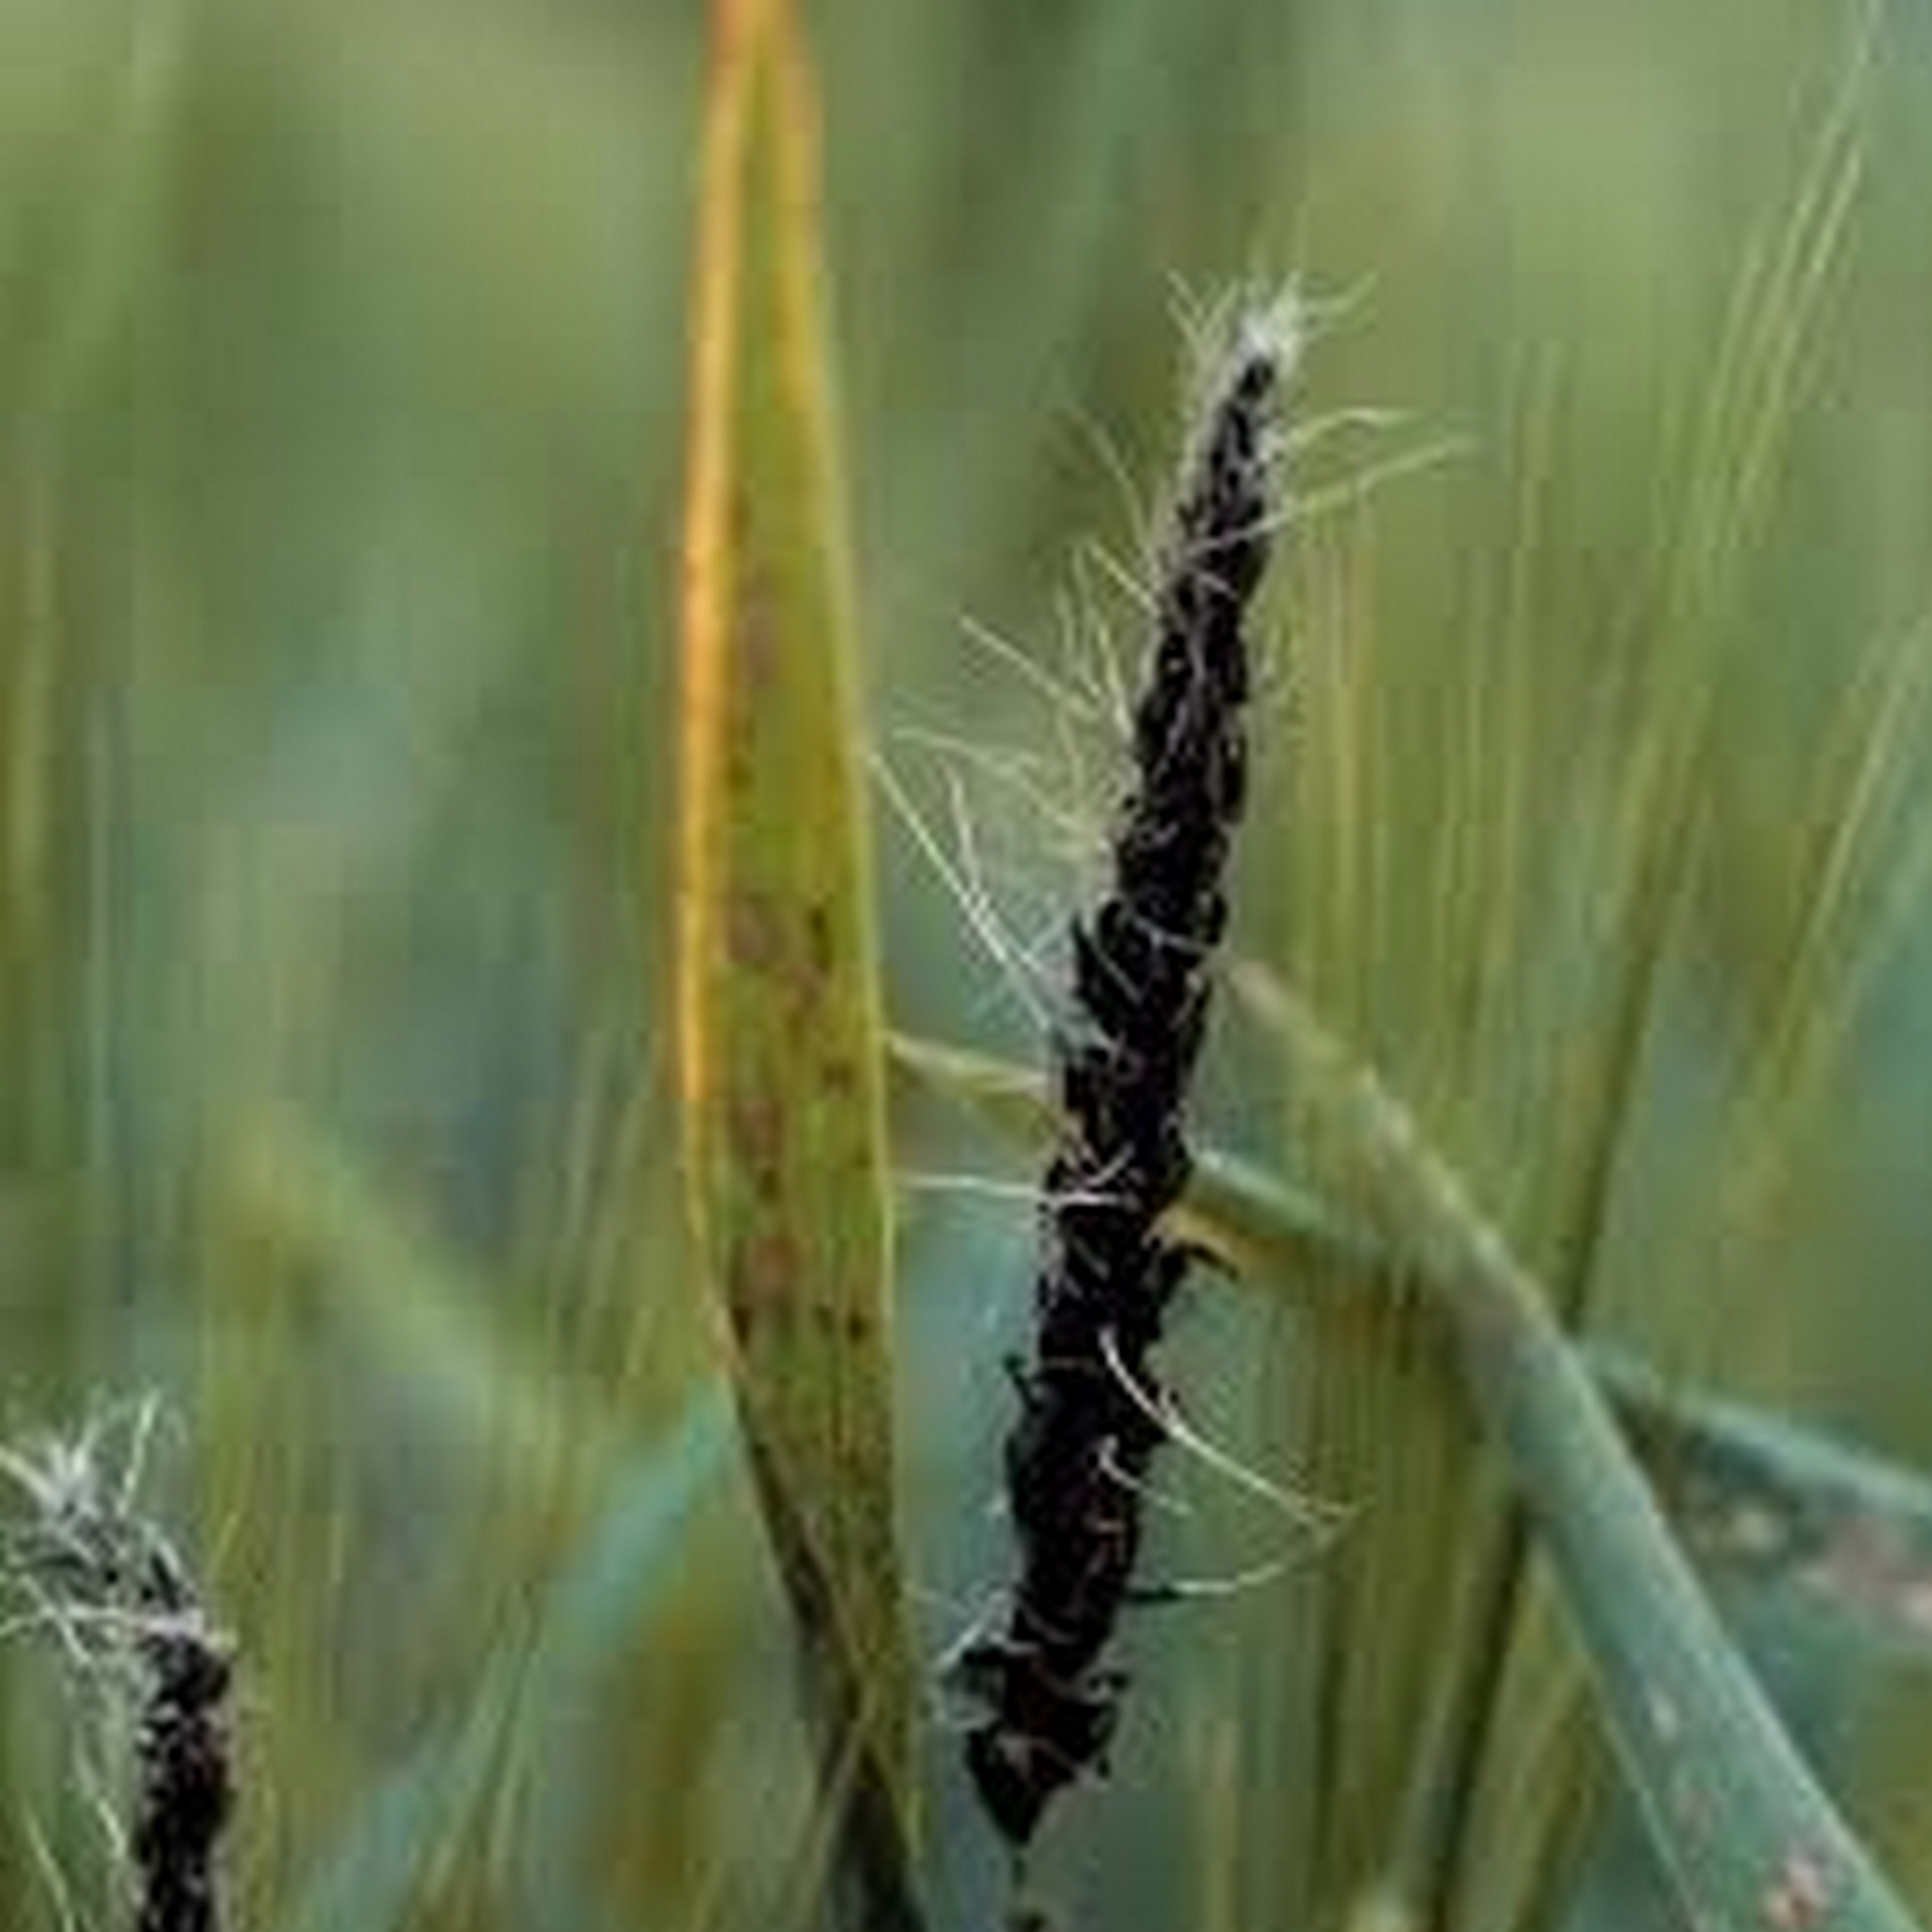Wheat Loose Smut: (918, 276, 1345, 1766)
